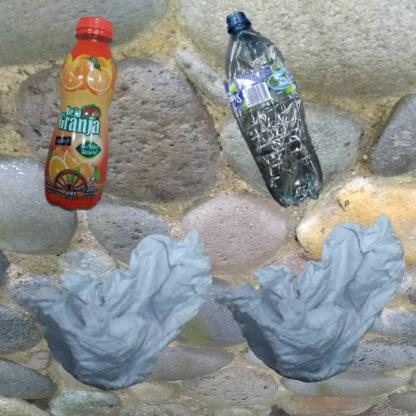botella: (10, 10, 198, 275), (213, 10, 338, 216)
papel: (10, 213, 219, 401), (213, 213, 406, 383)
